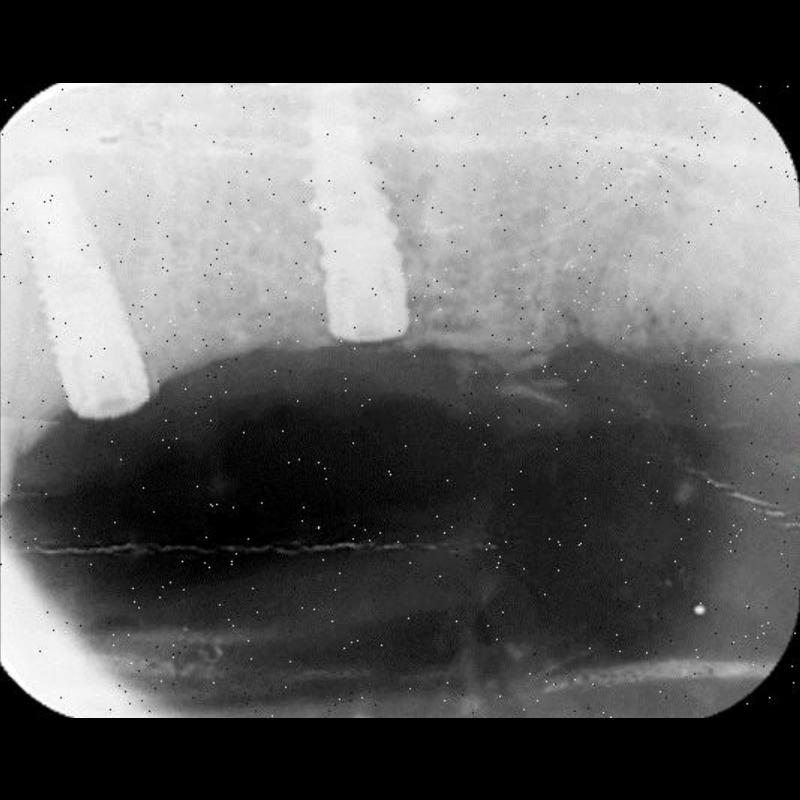ADIN: (0, 165, 172, 427), (292, 83, 420, 345)
